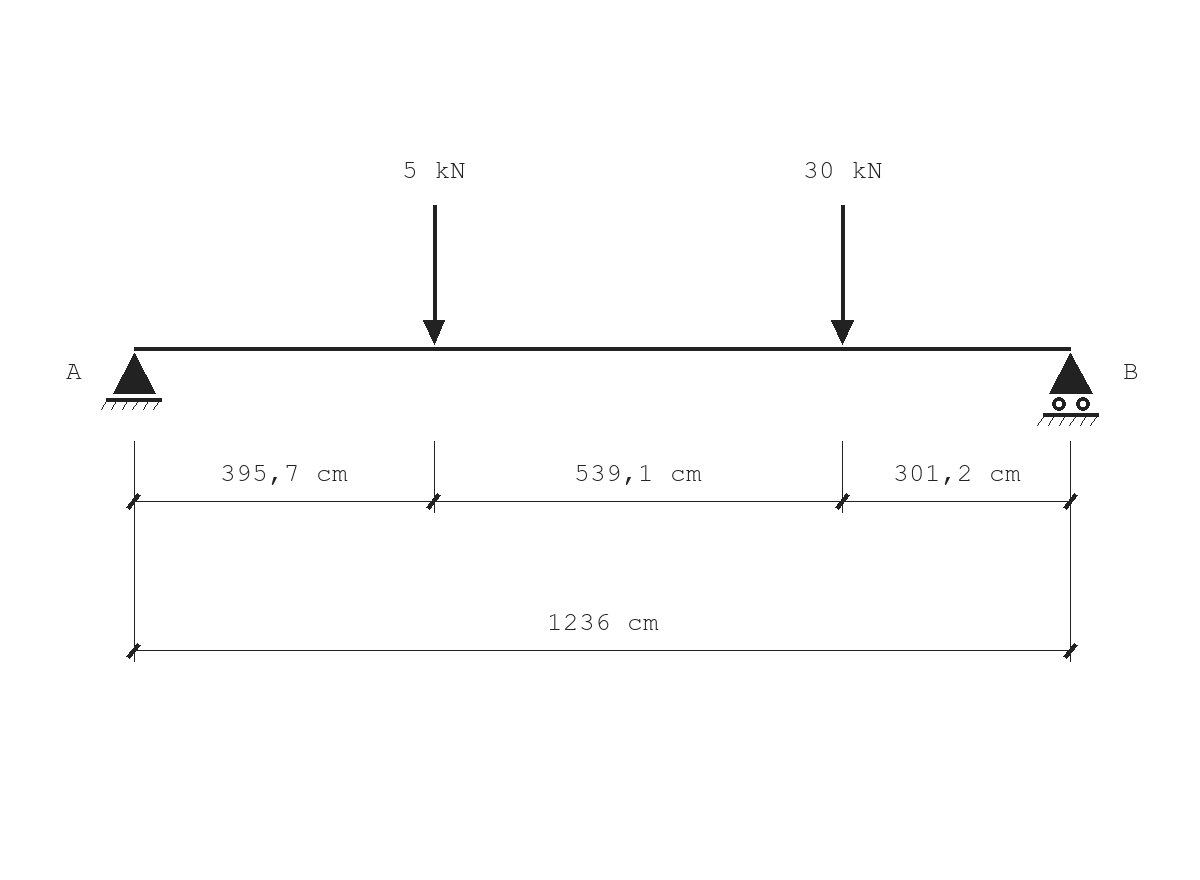pin_support: (101, 353, 162, 410)
point_load: (831, 205, 854, 345), (423, 205, 445, 345)
roller_support: (1037, 353, 1099, 426)
